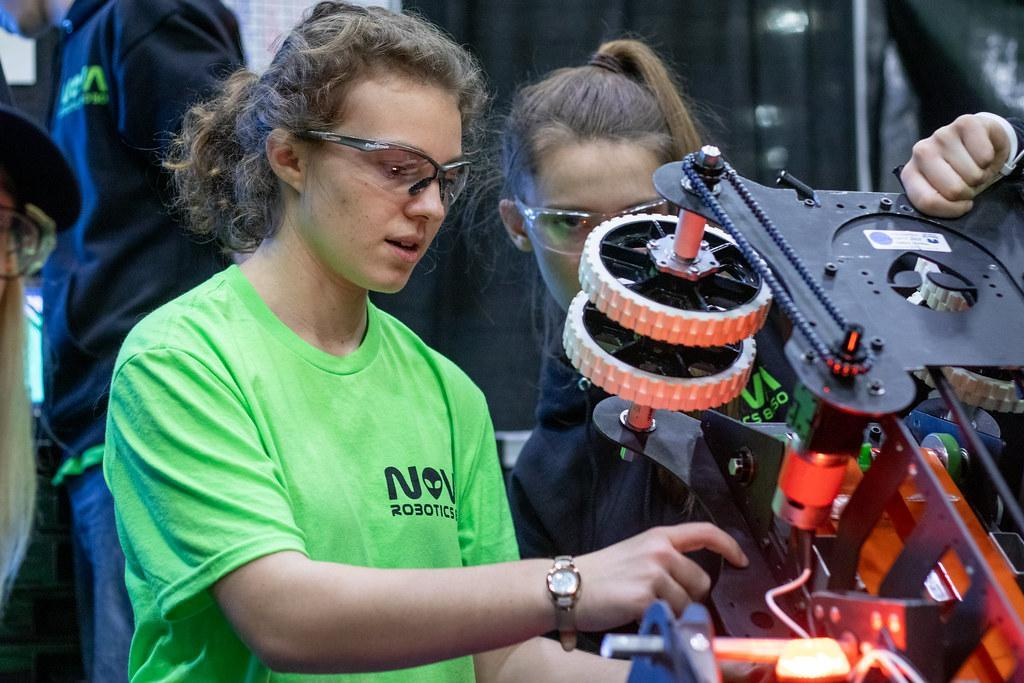robot: (556, 130, 1024, 683)
